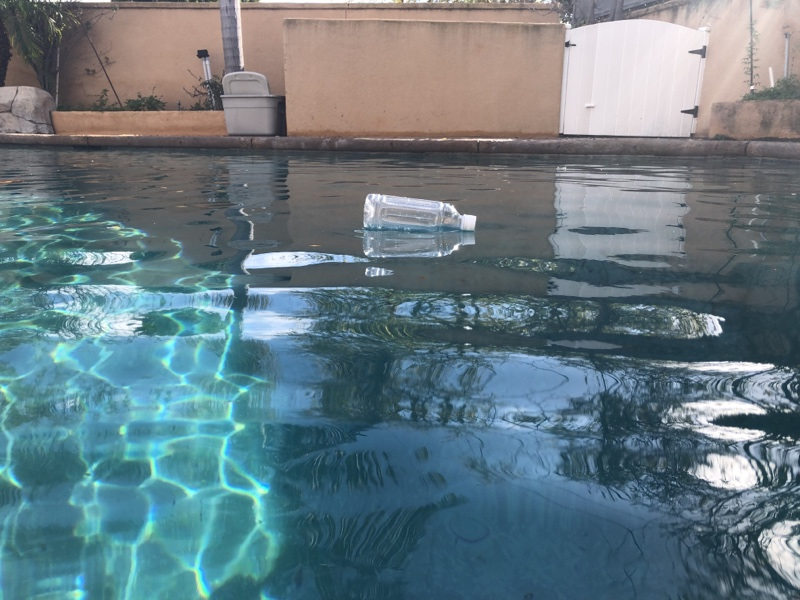Plastic Bottle: (361, 188, 479, 235)
